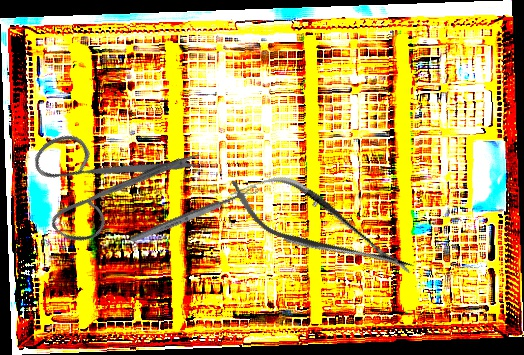Iris Scissors: (6, 73, 208, 277)
Micro Scissor: (217, 154, 425, 300)
Surgical Spoon: (129, 184, 260, 245)
